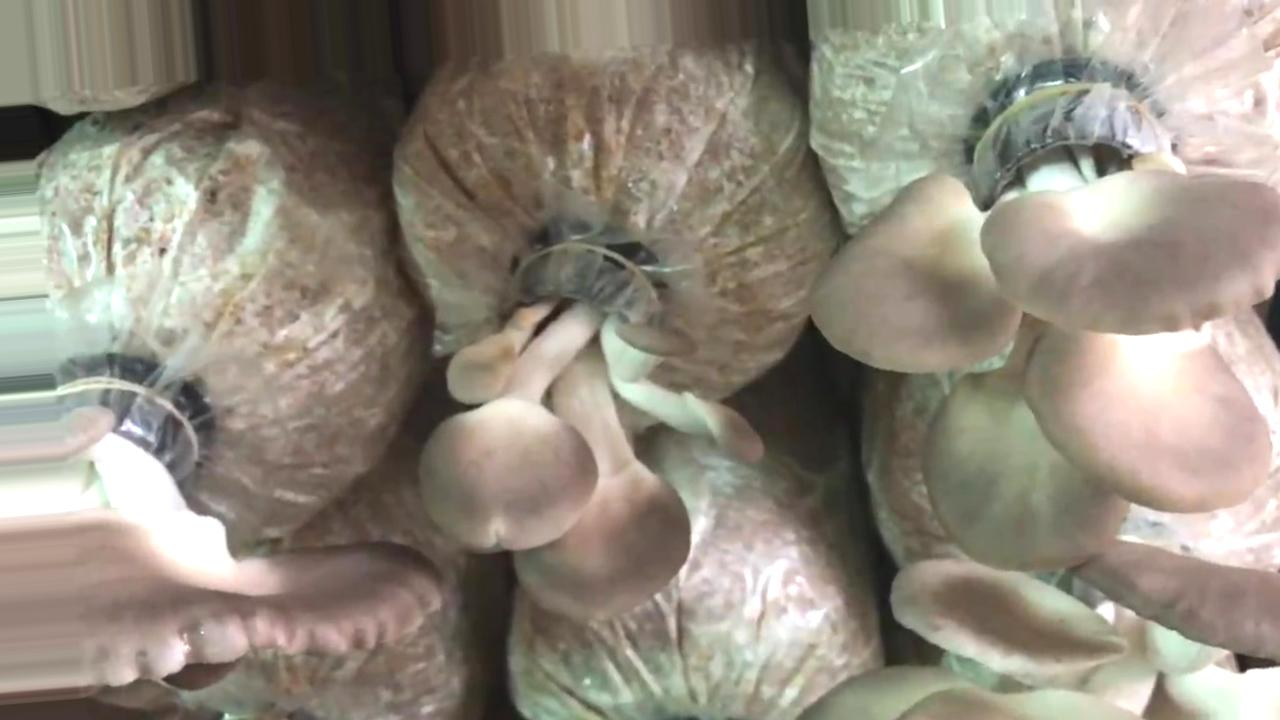nam: (813, 62, 1280, 569), (416, 225, 759, 617), (85, 384, 446, 662), (792, 541, 1280, 719)
